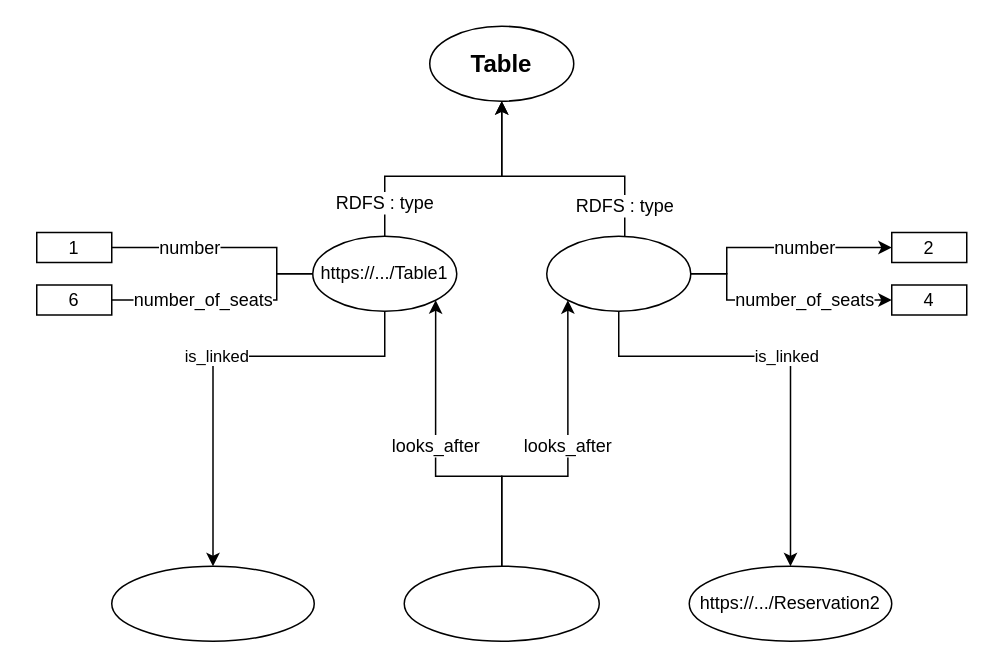
This 993x668 diagram has some shape labels left out. The centre of each missing label's shape, as x and y in pixels:
https://.../Nicolas: (x=501, y=603)
https://.../Reservation1: (x=212, y=603)
https://.../Table2: (x=618, y=273)
